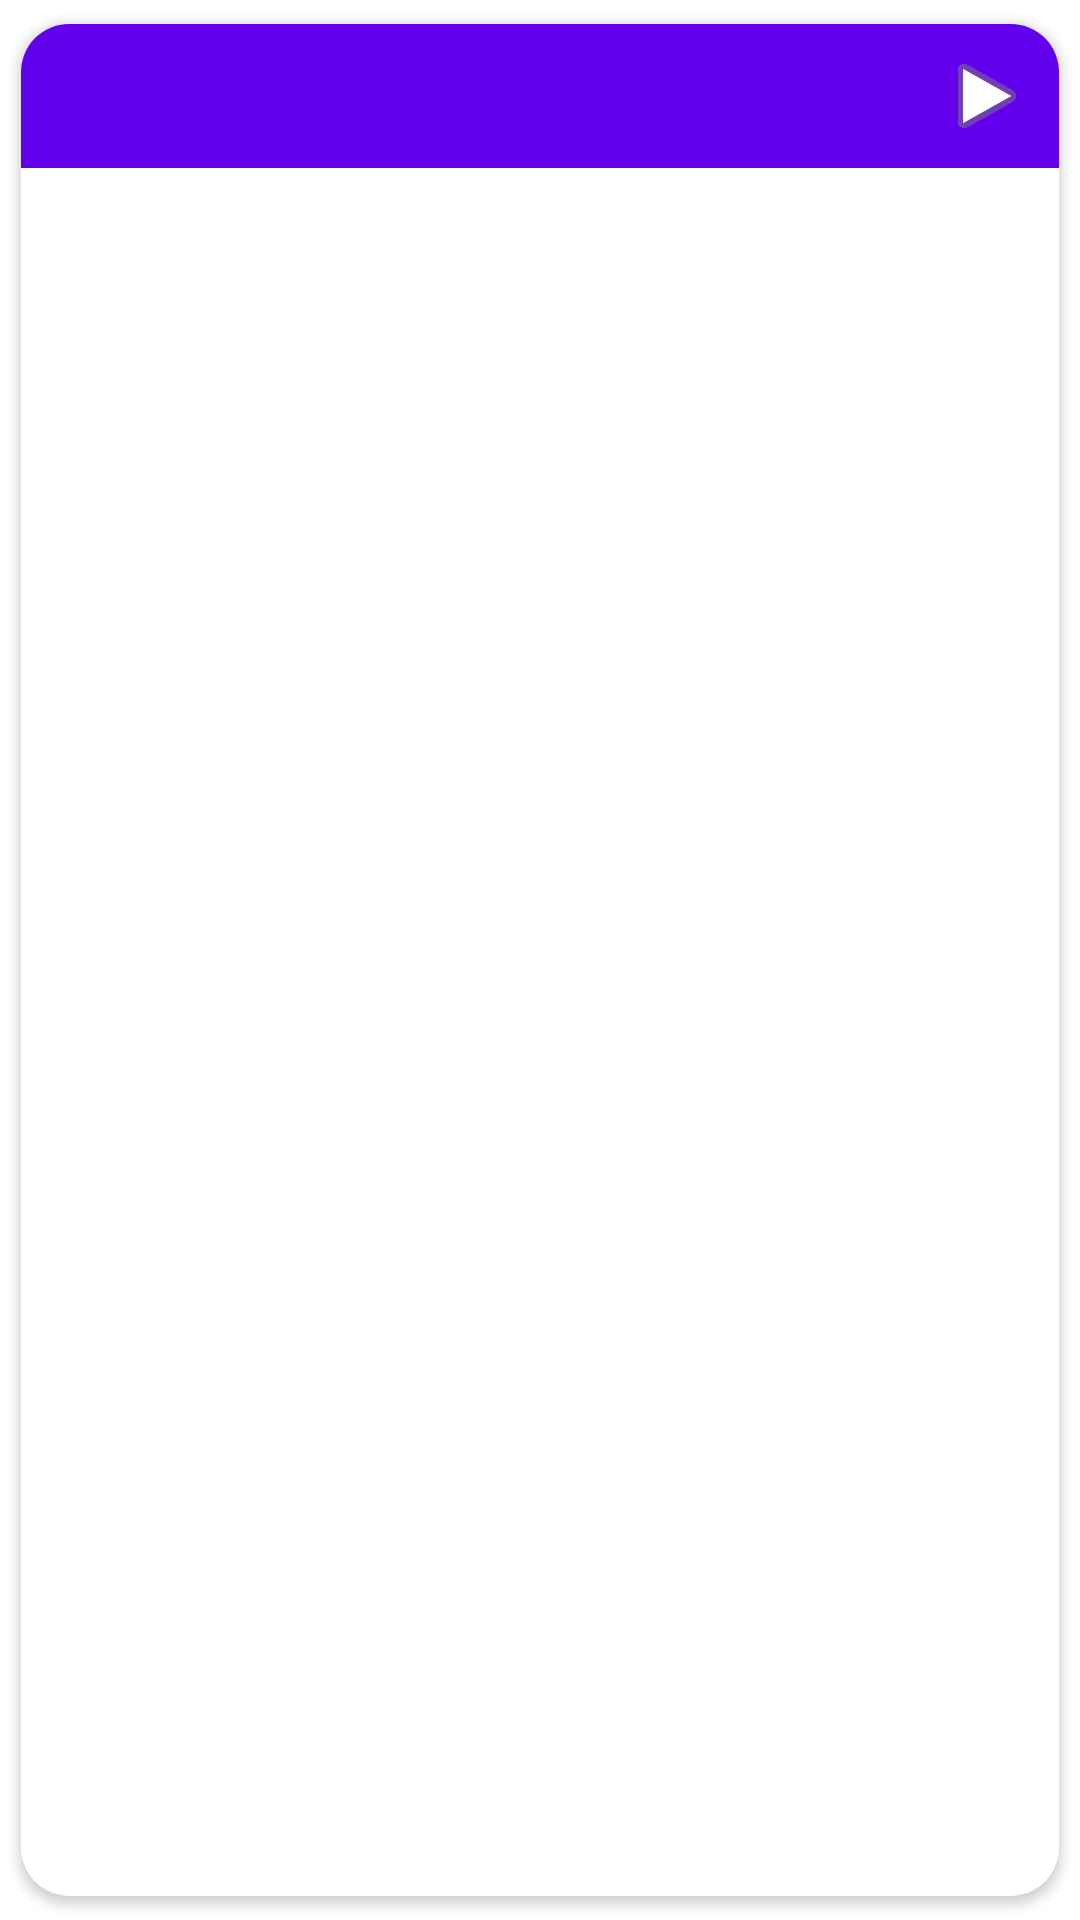

Screen size 1080px×1920px. Icon name, then its center in pixels as [x,y]:
play: [987,96]
